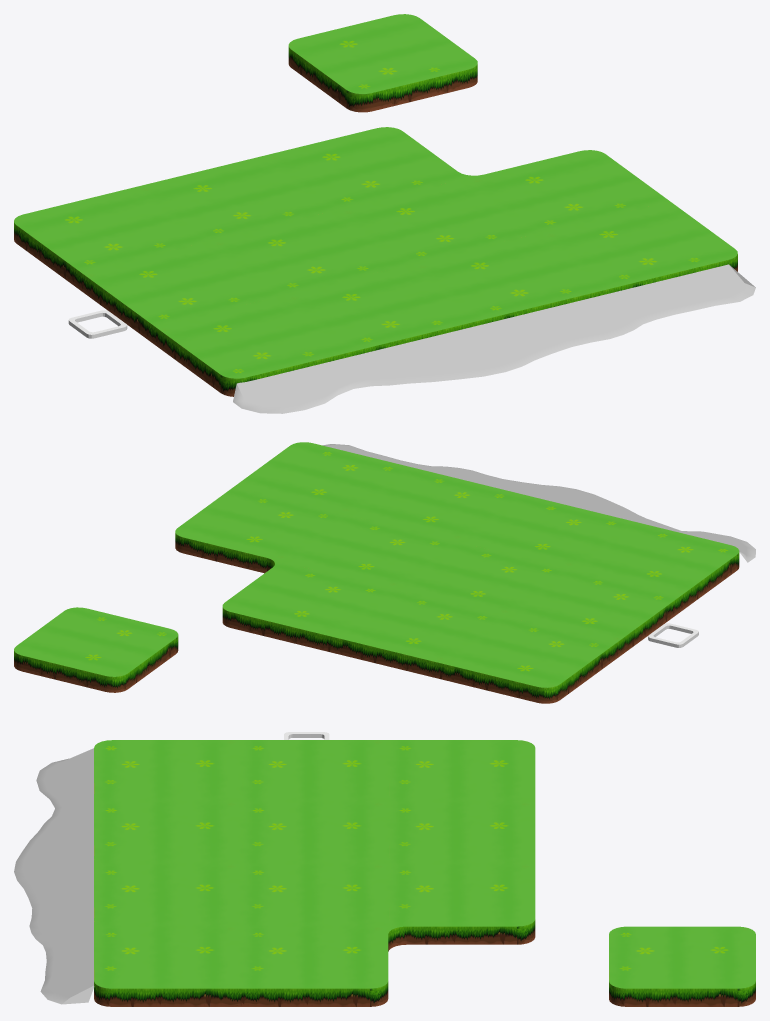
File: level layout (1).fbx
3 renders of one model, top to bottom at view 1: azimuth 30°, elevation 25°; view 2: azimuth 150°, elevation 25°; view 3: azimuth 270°, elevation 25°, orthographic. The views are drawn at different scales.
Visible parts, largest first — view 1: polySurface7, Center.015, Center.011, Center.001, Center.006, Center.014, Center.010, Center.013, Center.008, Center, Center.003, Center.009 (+2 smaller); view 2: Center.015, Center.001, Center.003, Center.009, Center, Center.011, Center.006, Center.013, Center.014, Center.010, Center.005, Center.008 (+2 smaller); view 3: polySurface7, Center.015, Center.003, Center.009, Center.014, Center.013, Center.008, Center.010, Center, Center.005, Center.001, Center.011 (+1 smaller).
Boxes of the visible parts, x1,y1,x2,y2 form: polySurface7: [233, 264, 755, 413]; Center.015: [288, 14, 477, 112]; Center.011: [162, 298, 351, 396]; Center.001: [14, 190, 202, 283]; Center.006: [88, 244, 277, 338]; Center.014: [548, 204, 737, 287]; Center.010: [291, 267, 480, 350]; Center.013: [420, 236, 608, 319]; Center.008: [345, 181, 534, 261]; Center: [142, 158, 331, 238]; Center.003: [271, 127, 460, 206]; Center.009: [474, 150, 663, 229]; Center.015: [14, 607, 178, 692]; Center.001: [446, 618, 610, 703]; Center.003: [222, 564, 386, 648]; Center.009: [175, 489, 339, 573]; Center: [334, 591, 498, 675]; Center.011: [575, 524, 739, 605]; Center.006: [510, 571, 674, 652]; Center.013: [351, 469, 515, 538]; Center.014: [240, 442, 403, 511]; Center.010: [463, 496, 627, 565]; Center.005: [398, 544, 562, 613]; Center.008: [287, 516, 451, 585]; polySurface7: [14, 748, 94, 1004]; Center.015: [609, 926, 755, 1006]; Center.003: [388, 864, 535, 944]; Center.009: [241, 926, 388, 1006]; Center.014: [94, 926, 241, 1006]; Center.013: [94, 864, 241, 926]; Center.008: [241, 864, 388, 926]; Center.010: [94, 802, 241, 864]; Center: [388, 802, 535, 864]; Center.005: [241, 802, 388, 864]; Center.001: [388, 740, 535, 802]; Center.011: [94, 740, 241, 802].
Bounding box in the file's own units: 1739 × 54.66 × 2018.
